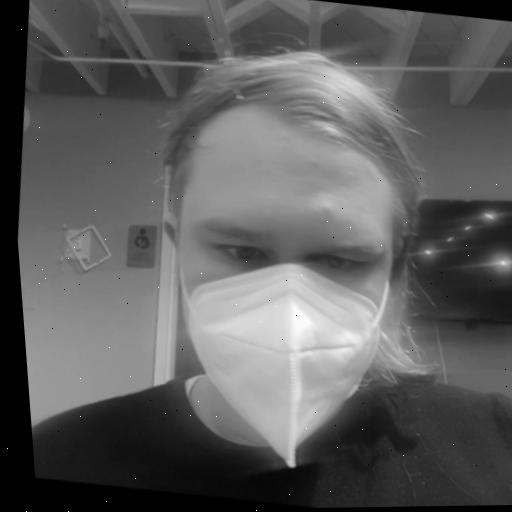mask: (89, 28, 475, 476)
